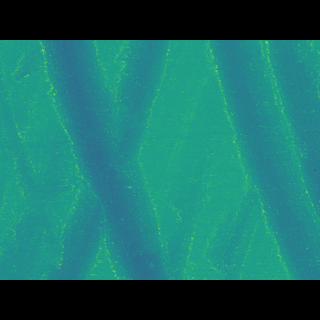Loch: (36, 69, 185, 249), (206, 69, 320, 250)
